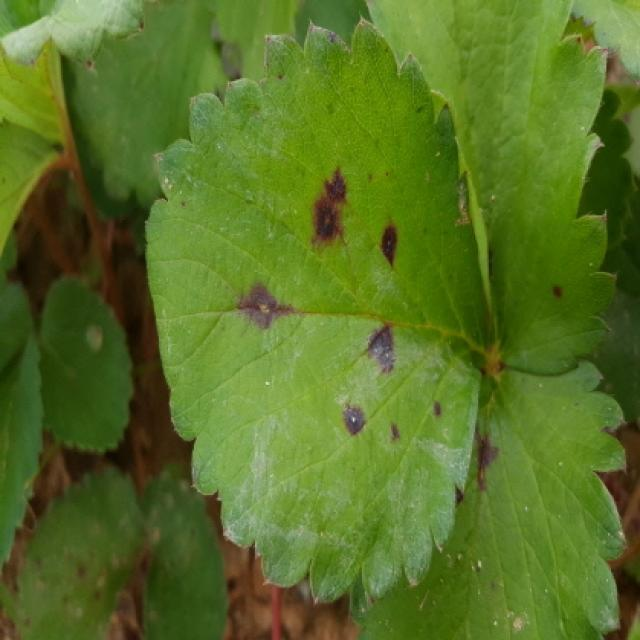Leaf Spot: (145, 15, 490, 606), (365, 0, 619, 377), (347, 360, 630, 638), (9, 463, 153, 638)
